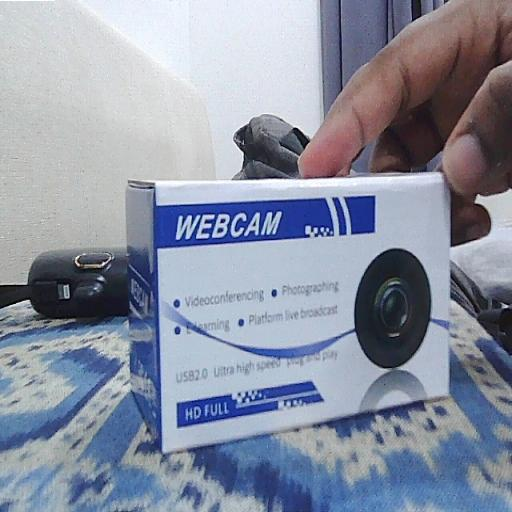webcam_box: (126, 173, 452, 453)
